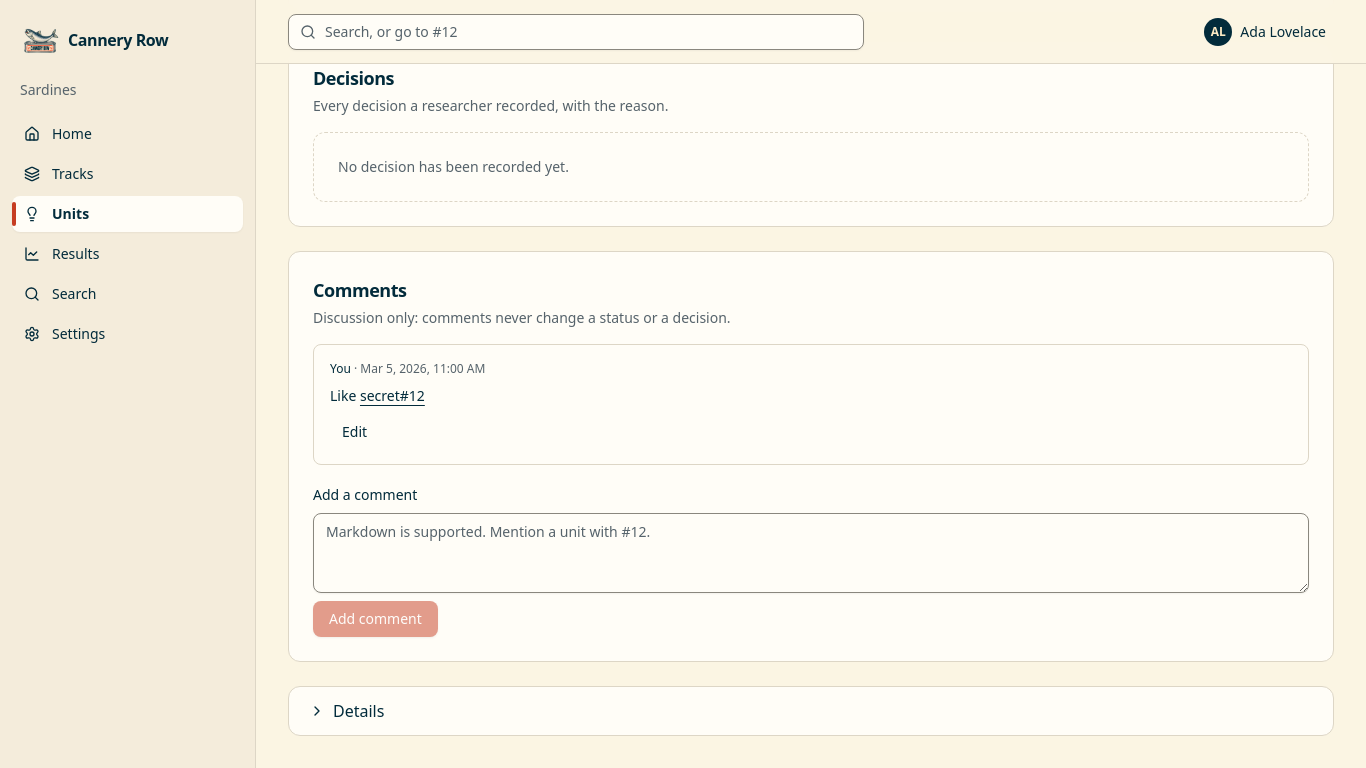
it: a link to a project the user cannot open › says so after following a mention in a comment
(page scrolled)
Click the link "secret#12". click: (392, 396)
box: [360,386,425,405]
(page scrolled)
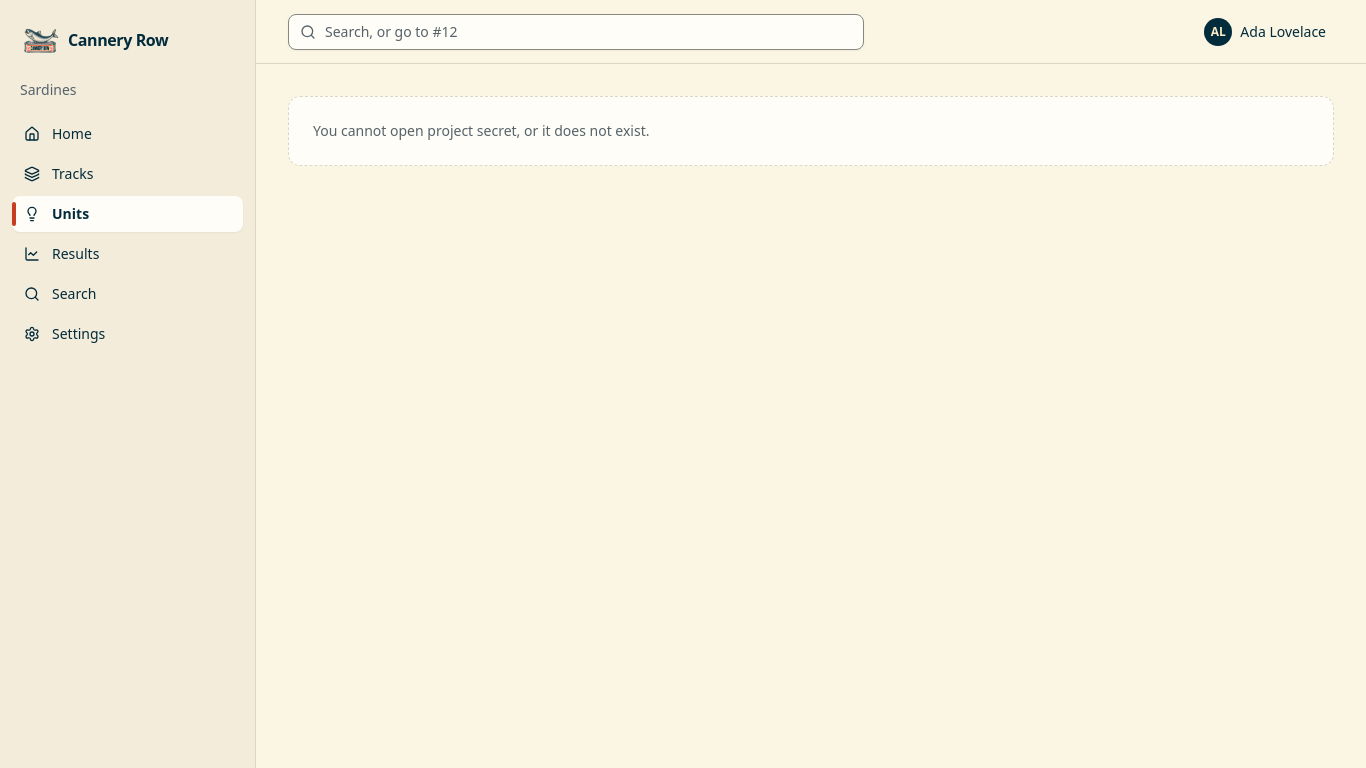
Expected: the text "You cannot open project secret, or it does not exist." is shown, [288,96,1334,166]
